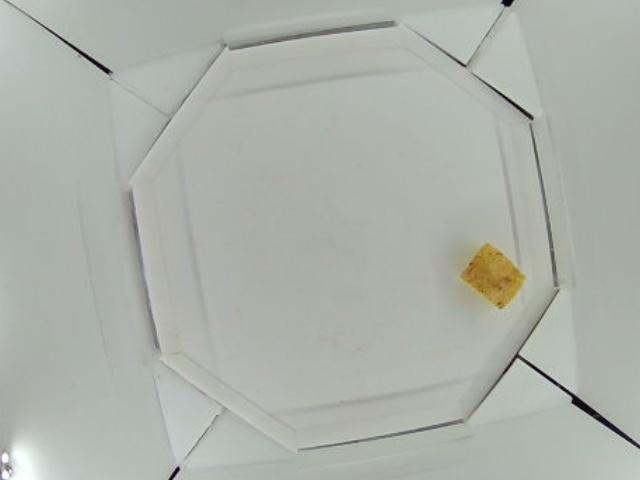Potato: (462, 242, 525, 310)
